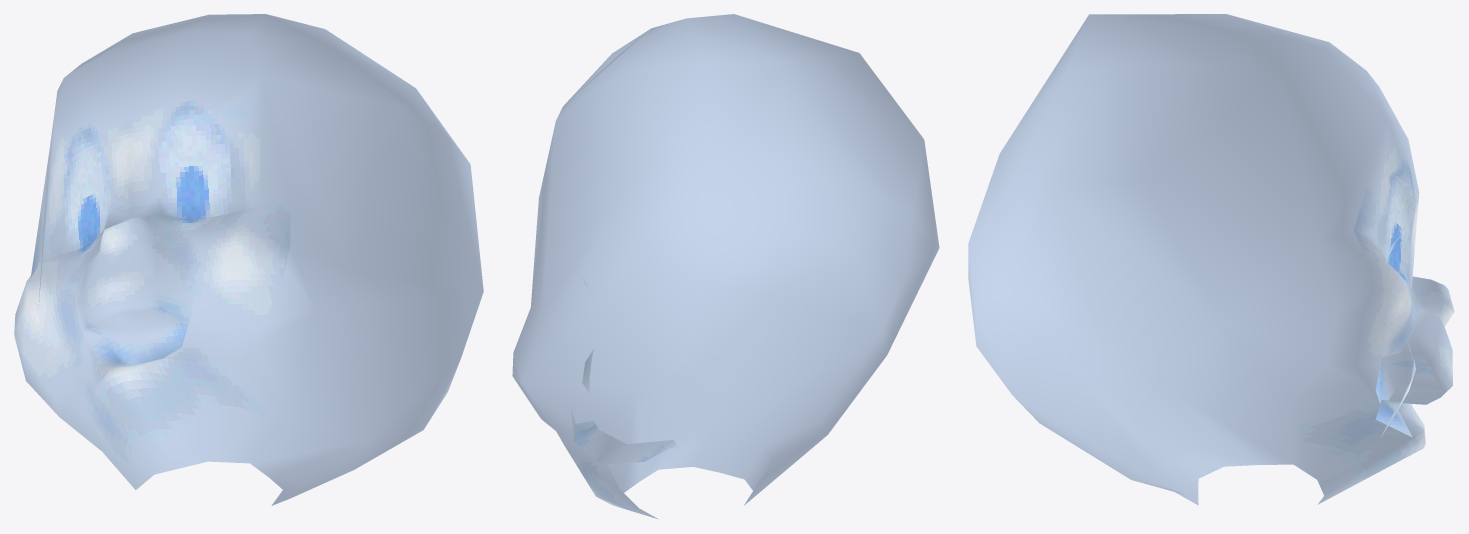
File: ps2_save-icons_casperspiritdimensions.glb
3 views of the same model, side by side, from view 1: azimuth 30°, elevation 25°; view 2: azimuth 150°, elevation 25°; view 3: azimuth 270°, elevation 25° (orthographic). The views are drawn at different scales.
Parts seen in each view (by area): view 1: casper.ico; view 2: casper.ico; view 3: casper.ico.
Boxes of the visible parts, x1,y1,x2,y2 form: casper.ico: (14, 14, 483, 505); casper.ico: (512, 14, 939, 519); casper.ico: (968, 14, 1454, 505).
Size of the model in its own units: 2.47 by 3.16 by 3.05.
Materials: 1 (1 with a texture image).
